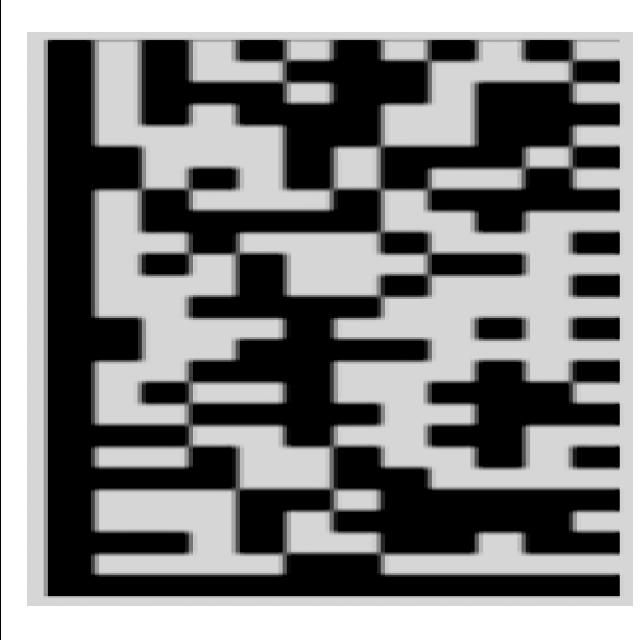DataMatrix: (26, 32, 632, 606)
